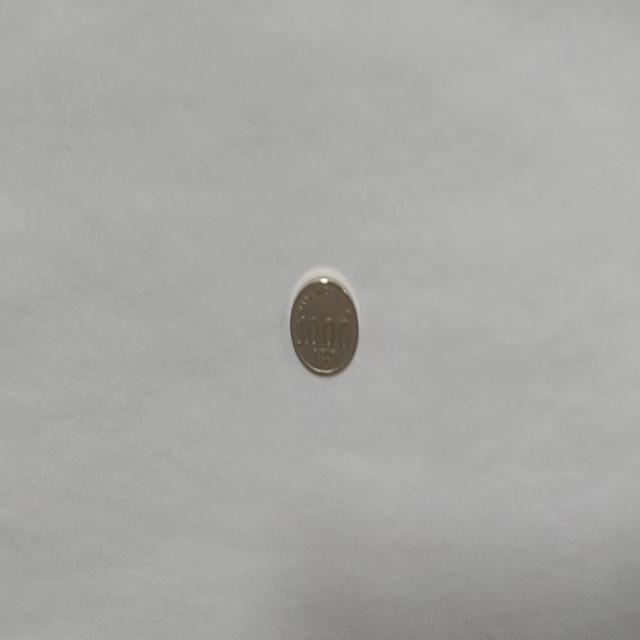seribu rupiah koin: (288, 269, 359, 377)
